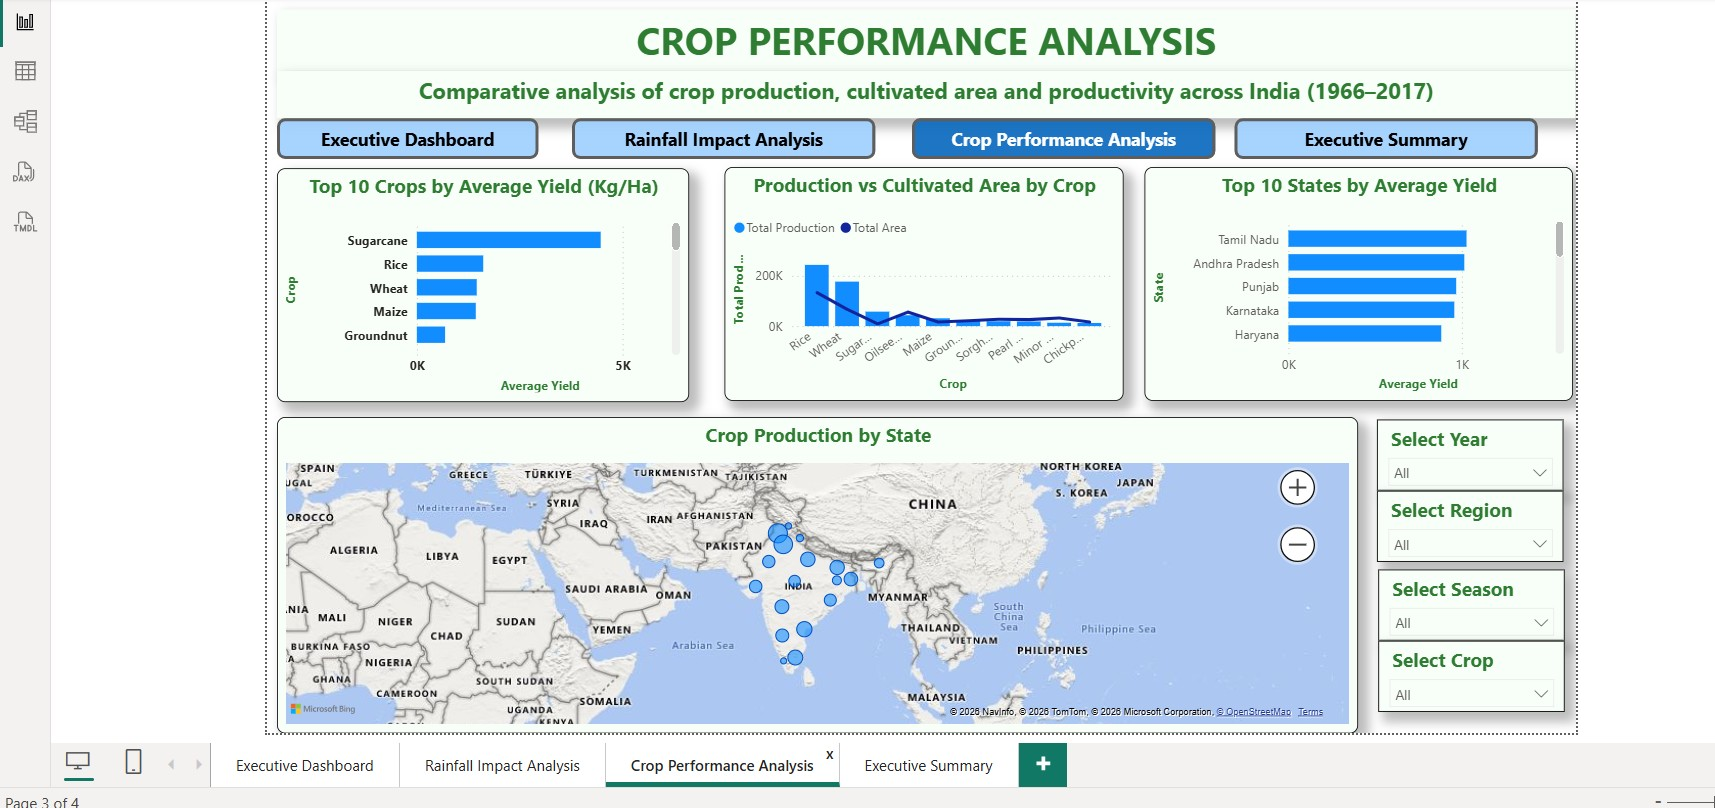

Layout of this report page (visuals, bound fields, positions):
{"tool":"powerbi","page":{"name":"Crop Performance Analysis ","canvas":[1280,720],"ordinal":2},"visuals":[{"type":"textbox","box":[9.6,12.3,1270.7,60.4],"z":0},{"type":"textbox","box":[9.6,72.7,1270.7,46.7],"z":1000},{"type":"clusteredBarChart","title":"Top 10 Crops by Average Yield (Kg/Ha)","fields":{"Category":["Crop.Crop"],"Y":["Measure Table.Average Yield"]},"box":[9.8,167.5,403.5,228.7],"z":2000},{"type":"lineClusteredColumnComboChart","title":"Production vs Cultivated Area by Crop","fields":{"Category":["Crop.Crop"],"Y":["Measure Table.Total Production"],"Y2":["Measure Table.Total Area"]},"box":[447.6,166.3,390.1,228.7],"z":3000},{"type":"clusteredBarChart","title":"Top 10 States by Average Yield","fields":{"Category":["State.State Name"],"Y":["Measure Table.Average Yield"]},"box":[858.4,166.3,419.4,228.7],"z":4000},{"type":"slicer","fields":{"Values":["Year.Year"]},"box":[1085.8,413.1,182.5,70],"z":6000},{"type":"slicer","fields":{"Values":["State.Region"]},"box":[1085.8,483.1,182.5,70],"z":7000},{"type":"slicer","fields":{"Values":["Fact Agriculture.Season"]},"box":[1087.2,559.9,182.5,70],"z":8000},{"type":"slicer","fields":{"Values":["Crop.Crop"]},"box":[1087.2,629.9,182.5,70],"z":9000},{"type":"map","title":"Crop Production by State ","fields":{"Category":["State.State Name"],"Size":["Measure Table.Total Production"]},"box":[9.8,410.9,1057.8,309.4],"z":10000},{"type":"actionButton","box":[9.8,118.6,255.8,39.8],"z":10001},{"type":"actionButton","box":[298.4,118.6,296.8,39.8],"z":10002},{"type":"actionButton","box":[631,118.6,296.8,39.8],"z":10003},{"type":"actionButton","box":[946.5,118.6,296.8,39.8],"z":10004}]}

Visuals, with their boxes on the page's 1280x720 design canvas (x1, y1, x2, y2). These are canvas units, not pixel positions in the 1715x808 screenshot, which may show the page scaled, cropped or inside an application window:
textbox: x1=10 y1=12 x2=1280 y2=73
textbox: x1=10 y1=73 x2=1280 y2=119
"Top 10 Crops by Average Yield (Kg/Ha)" clusteredBarChart: x1=10 y1=168 x2=413 y2=396
"Production vs Cultivated Area by Crop" lineClusteredColumnComboChart: x1=448 y1=166 x2=838 y2=395
"Top 10 States by Average Yield" clusteredBarChart: x1=858 y1=166 x2=1278 y2=395
slicer - Year.Year: x1=1086 y1=413 x2=1268 y2=483
slicer - State.Region: x1=1086 y1=483 x2=1268 y2=553
slicer - Fact Agriculture.Season: x1=1087 y1=560 x2=1270 y2=630
slicer - Crop.Crop: x1=1087 y1=630 x2=1270 y2=700
"Crop Production by State " map: x1=10 y1=411 x2=1068 y2=720
actionButton: x1=10 y1=119 x2=266 y2=158
actionButton: x1=298 y1=119 x2=595 y2=158
actionButton: x1=631 y1=119 x2=928 y2=158
actionButton: x1=946 y1=119 x2=1243 y2=158
